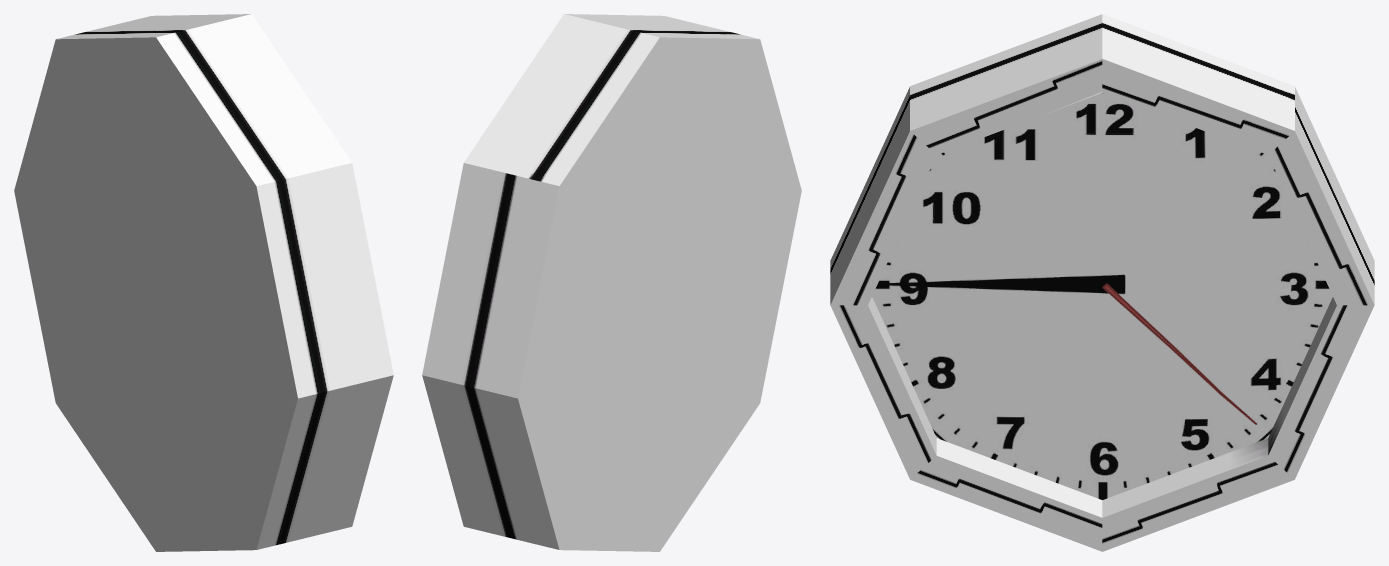
File: Clock_Wall_Analog.fbx
3 views of the same model, side by side, from view 1: azimuth 30°, elevation 25°; view 2: azimuth 150°, elevation 25°; view 3: azimuth 270°, elevation 25° (orthographic). The views are drawn at different scales.
Visible parts, largest first — view 1: Wall_Clock; view 2: Wall_Clock; view 3: Wall_Clock.
Boxes of the visible parts, x1,y1,x2,y2 form: Wall_Clock: (14, 14, 393, 551); Wall_Clock: (422, 14, 801, 551); Wall_Clock: (830, 14, 1374, 551).
Size of the model in its own units: 20.32 by 104 by 104.
